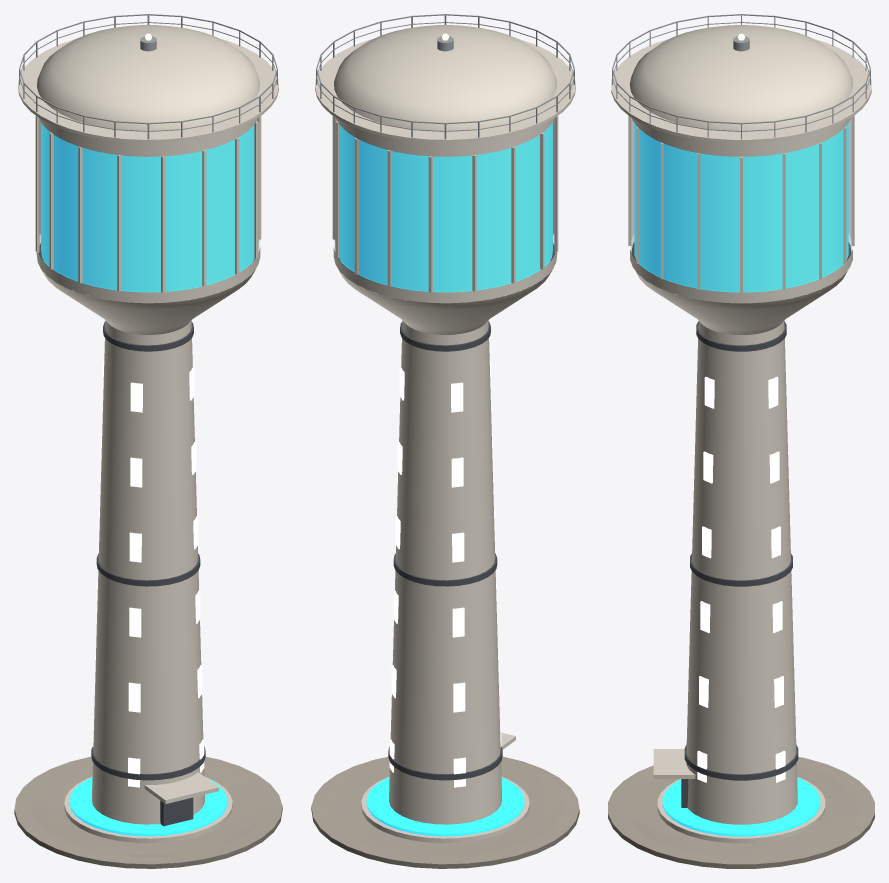
File: water-tower.glb
3 renders of one model, left to right at view 1: azimuth 30°, elevation 25°; view 2: azimuth 150°, elevation 25°; view 3: azimuth 270°, elevation 25°, orthographic.
Parts seen in each view (by area): view 1: water-tower_v0, water_level, water-tower_v1; view 2: water-tower_v0, water_level, water-tower_v1; view 3: water-tower_v0, water_level, water-tower_v1.
Boxes of the visible parts, box(x1,y1,x2,y2) form: water-tower_v0: box(14, 14, 282, 868); water_level: box(41, 123, 254, 292); water-tower_v1: box(31, 301, 262, 856); water-tower_v0: box(311, 14, 579, 868); water_level: box(339, 123, 552, 292); water-tower_v1: box(328, 301, 562, 856); water-tower_v0: box(608, 14, 874, 868); water_level: box(634, 123, 848, 292); water-tower_v1: box(629, 300, 857, 856).
Size of the model in its own units: 15.52 by 49.97 by 15.52.
